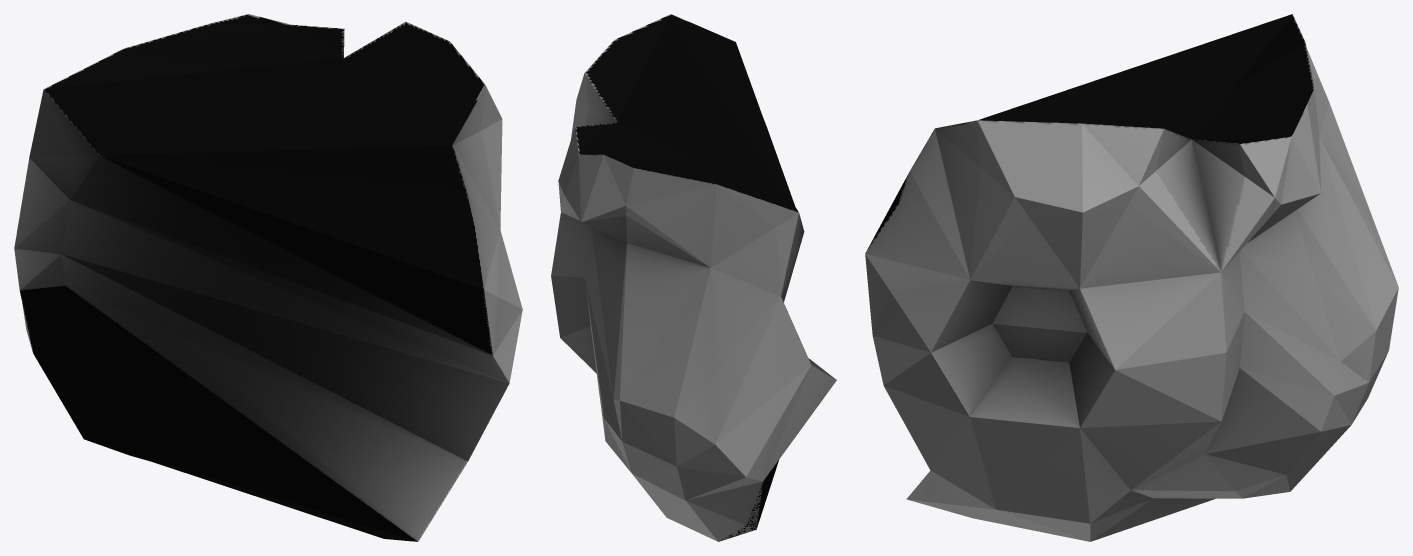
File: asteroid_split_part2.fbx
The picture shows the model from 3 angles, left to right: view 1: azimuth 30°, elevation 25°; view 2: azimuth 150°, elevation 25°; view 3: azimuth 270°, elevation 25°; orthographic projection. The views are drawn at different scales.
Visible parts, largest first — view 1: Cube.002; view 2: Cube.002; view 3: Cube.002.
Part boxes in pixels (<box>): Cube.002: <box>14,14,522,541</box>; Cube.002: <box>551,14,836,541</box>; Cube.002: <box>865,14,1398,541</box>.
Bounding box in the file's own units: 3.36 × 3.8 × 3.88.
